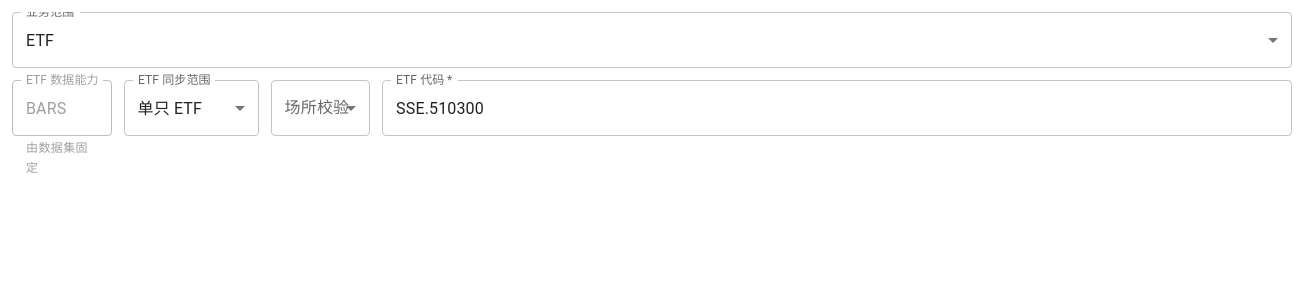
Test: TargetSelectorEditor › explains that a single ETF venue comes from its qualified identity
The image size is (1304, 290).
Click the dropdown named "场所校验" at {"x": 320, "y": 108}, box [271,80,370,136]
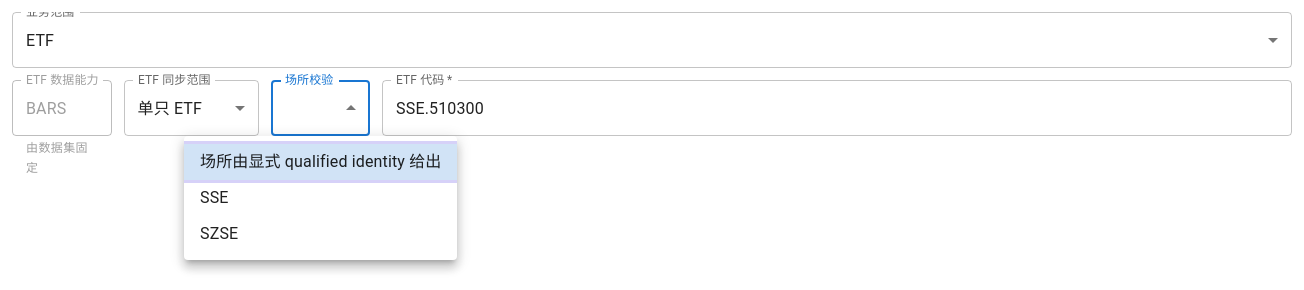
Now the option "场所由显式 qualified identity 给出" is shown, box [184,144,458,180]
